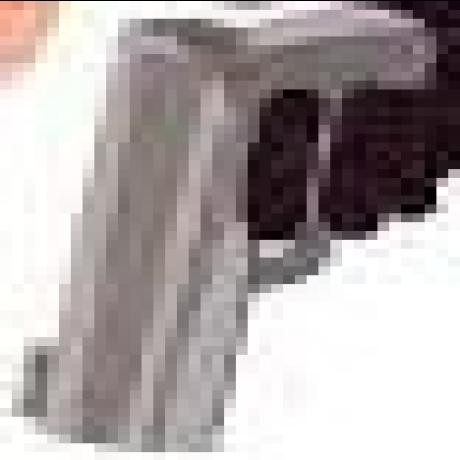weapon: (29, 7, 426, 439)
